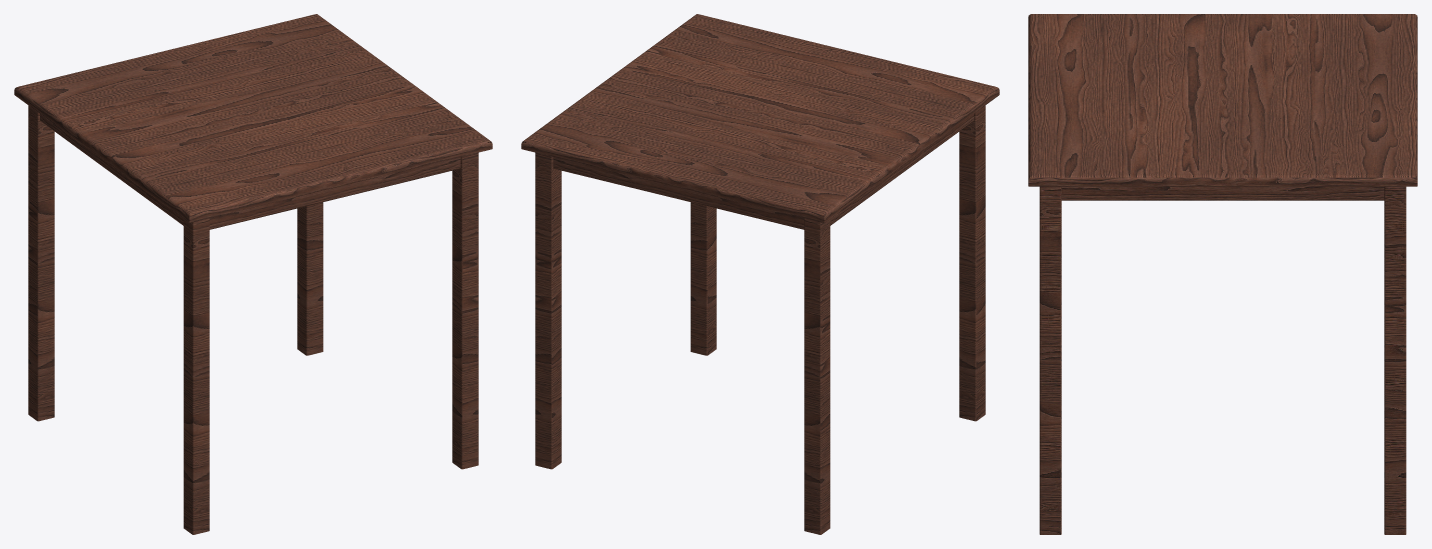
Rendered from Table.obj.
3 views of the same model, side by side, from view 1: azimuth 30°, elevation 25°; view 2: azimuth 150°, elevation 25°; view 3: azimuth 270°, elevation 25° (orthographic). The views are drawn at different scales.
Visible parts, largest first — view 1: Table.001; view 2: Table.001; view 3: Table.001.
Boxes of the visible parts, x1,y1,x2,y2 form: Table.001: (14, 14, 492, 534); Table.001: (521, 14, 999, 534); Table.001: (1028, 14, 1417, 534).
Size of the model in its own units: 0.7 by 0.72 by 0.7.
Materials: 1 (1 with a texture image).
